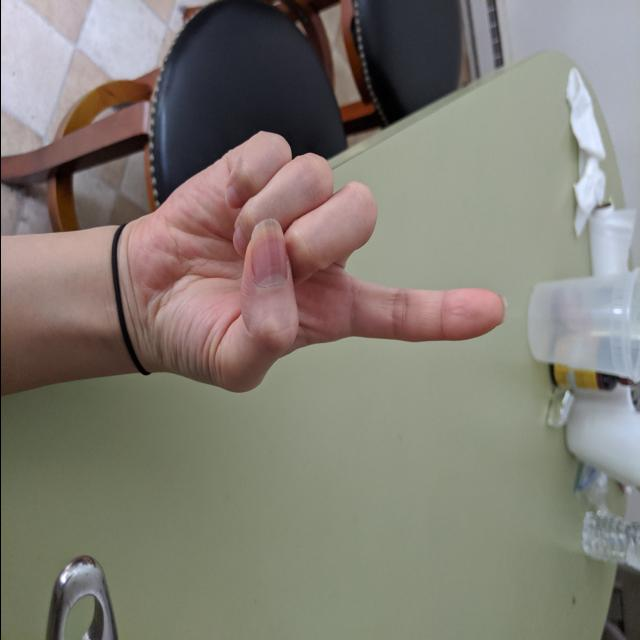D: (121, 124, 512, 404)
